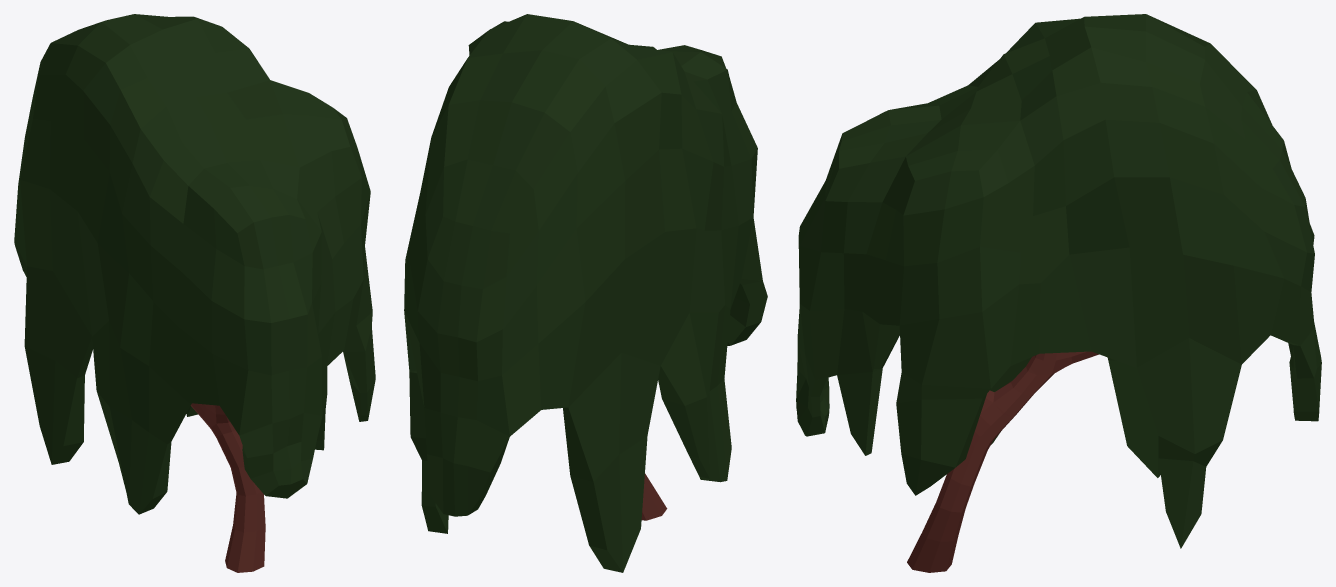
File: prop_Willow_1.glb
3 renders of one model, left to right at view 1: azimuth 30°, elevation 25°; view 2: azimuth 150°, elevation 25°; view 3: azimuth 270°, elevation 25°, orthographic. The views are drawn at different scales.
Parts seen in each view (by area): view 1: Willow_1; view 2: Willow_1; view 3: Willow_1.
Part boxes in pixels (x1,y1,x2,y2): Willow_1: [14, 14, 375, 572]; Willow_1: [404, 14, 767, 572]; Willow_1: [796, 14, 1321, 572].
Size of the model in its own units: 1.45 by 2.85 by 2.55.
